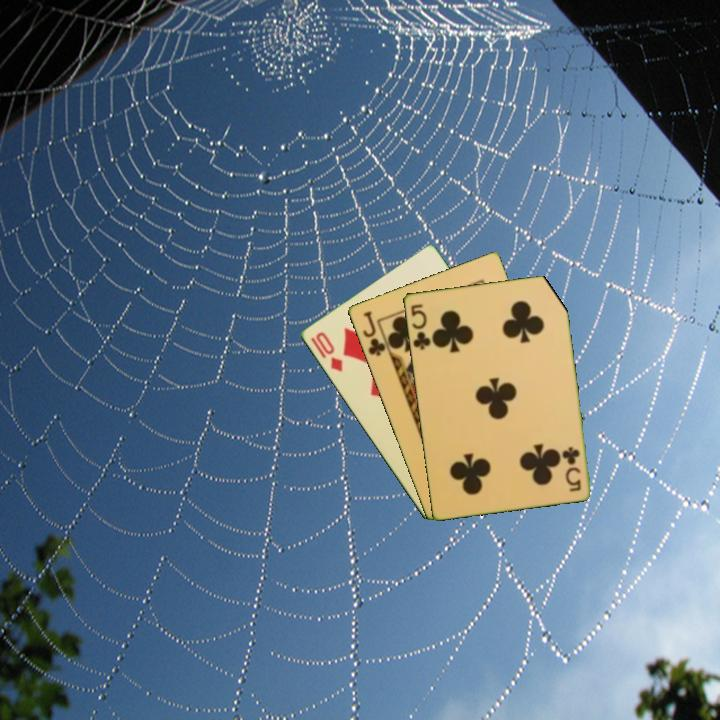10d: (312, 328, 345, 375)
5c: (407, 300, 433, 353), (560, 443, 584, 494)
Jc: (359, 307, 388, 359)
